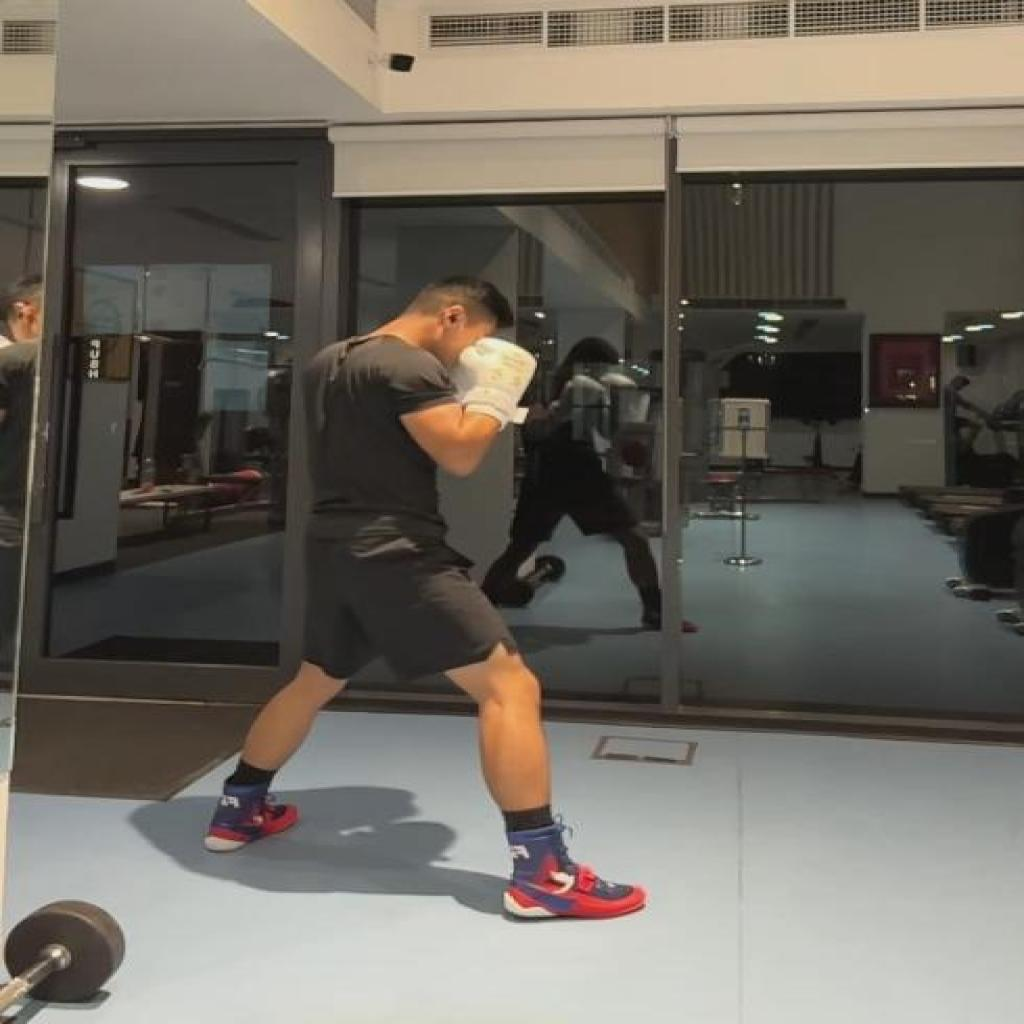no punch: (203, 277, 656, 923)
